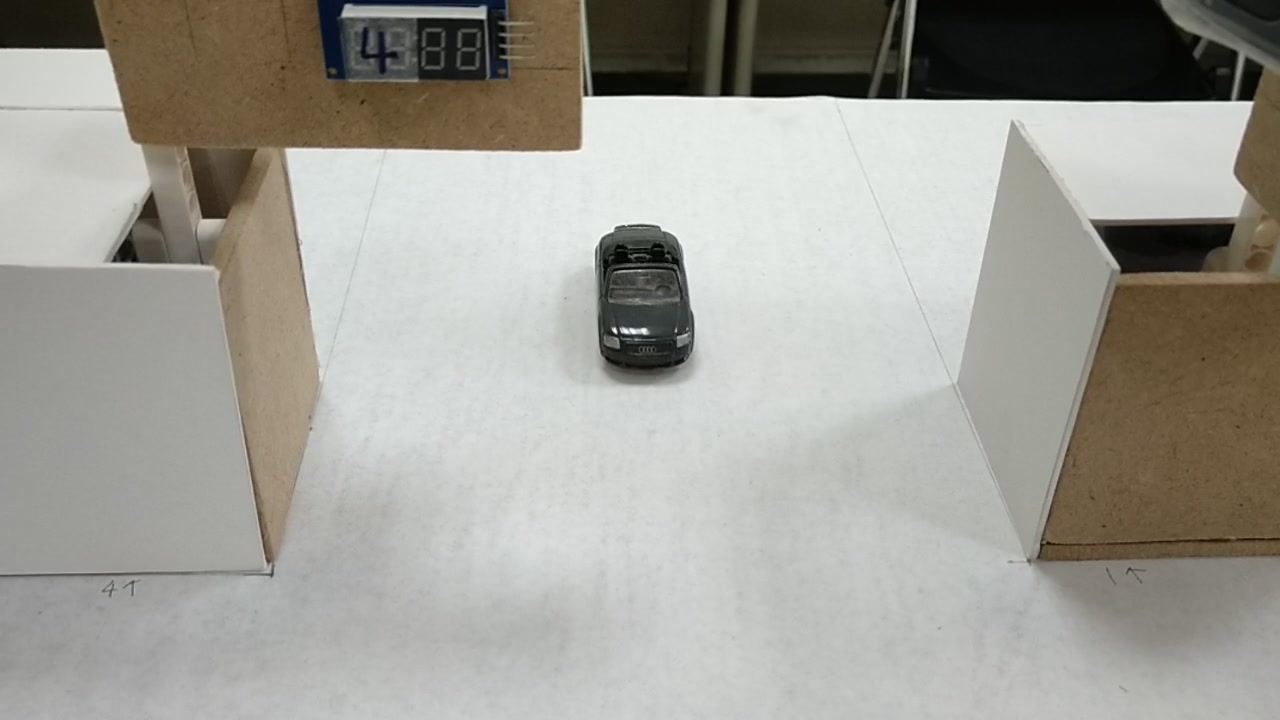car: (597, 220, 691, 376)
